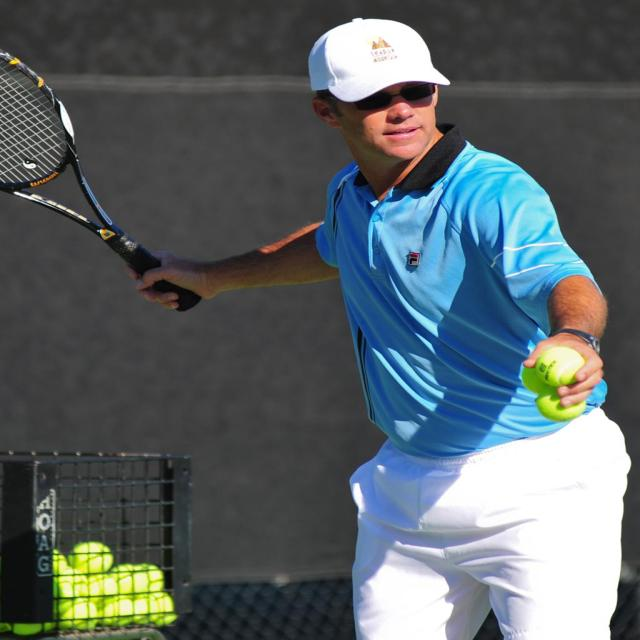Face: (336, 77, 447, 166)
